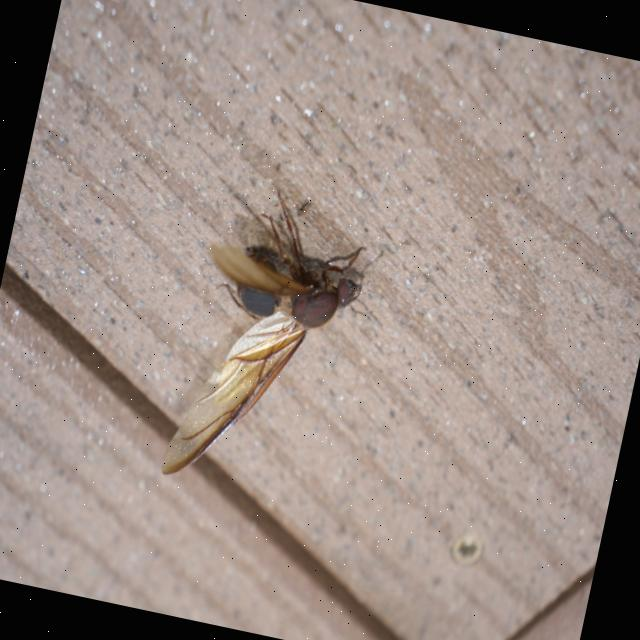Alive-Female-Alate: (158, 170, 397, 511)
